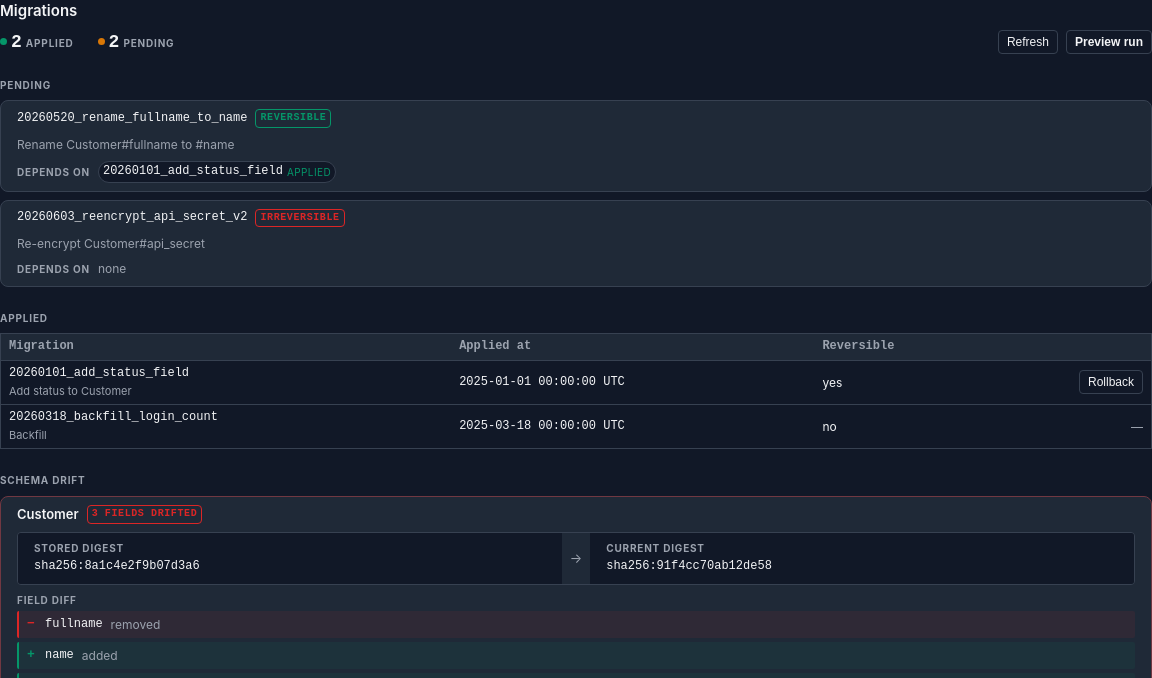
Test: rollback is a two-step confirm over a synchronous POST › a 400 runner-unavailable on rollback renders ErrorState inside the confirm
The image size is (1152, 678).
Expected: the table with test id "migrations-applied-table" is shown, x1=0 y1=333 x2=1151 y2=449
What coordinates should you click on to do the following:
click the button with test id "migrations-rollback-20260101_add_status_field"
I would click on:
 (1111, 382)
Its box is x1=1079 y1=370 x2=1143 y2=394.
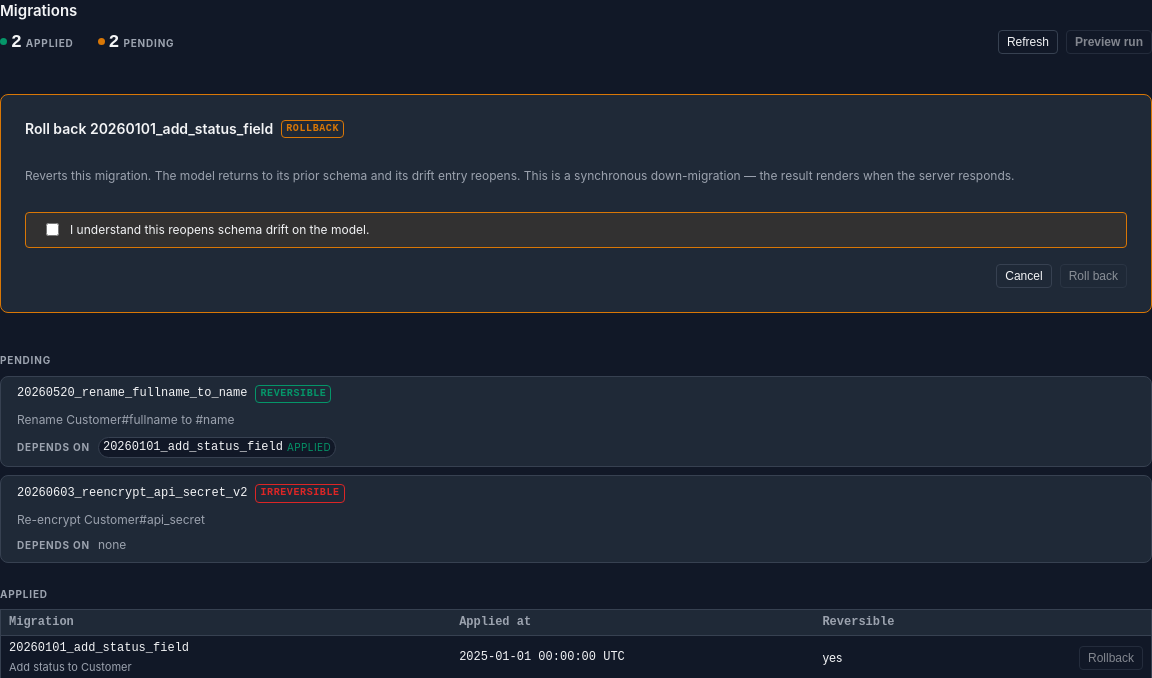
What coordinates should you click on to do the following:
click the checkbox with test id "migrations-rollback-ack-checkbox"
I would click on:
 (52, 230)
Its box is x1=46 y1=223 x2=59 y2=236.
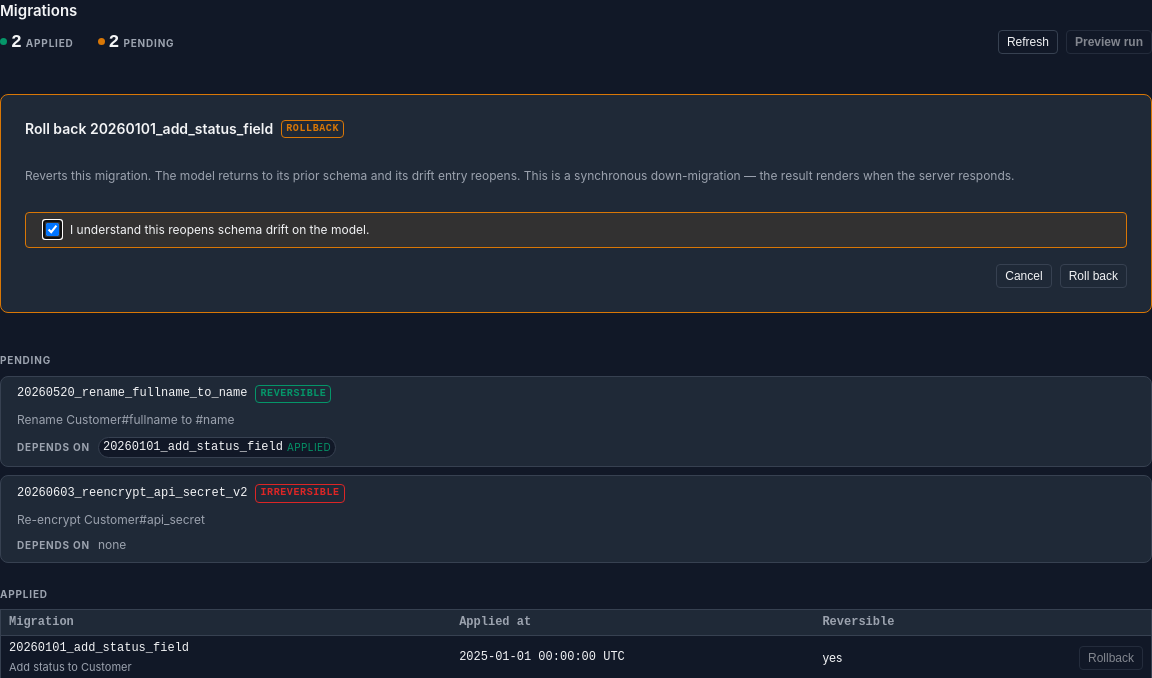
What coordinates should you click on to do the following:
click the button with test id "migrations-rollback-apply"
I would click on:
 (1093, 276)
Its box is x1=1060 y1=264 x2=1127 y2=288.
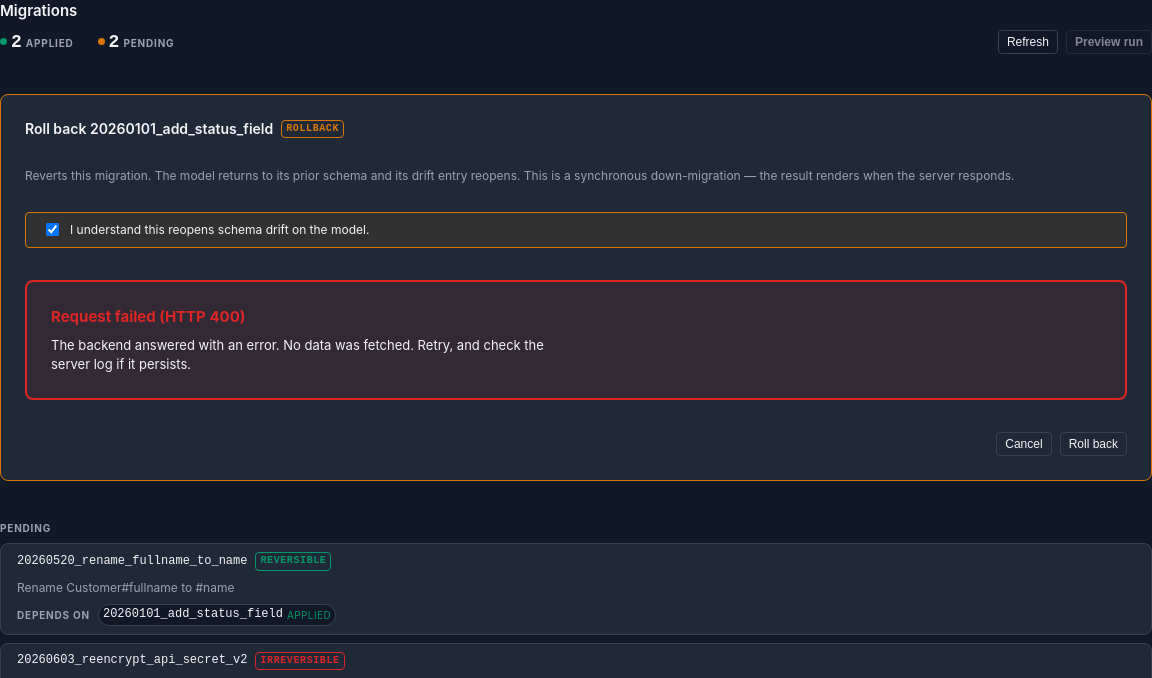
Expected: the message with test id "error-state" is shown, x1=25 y1=280 x2=1127 y2=400
